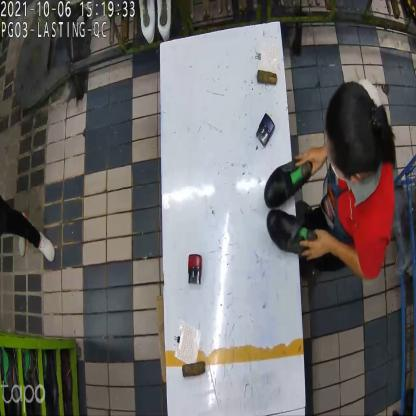shoes: (262, 156, 318, 254)
stamp: (184, 251, 204, 287), (256, 113, 275, 148)
